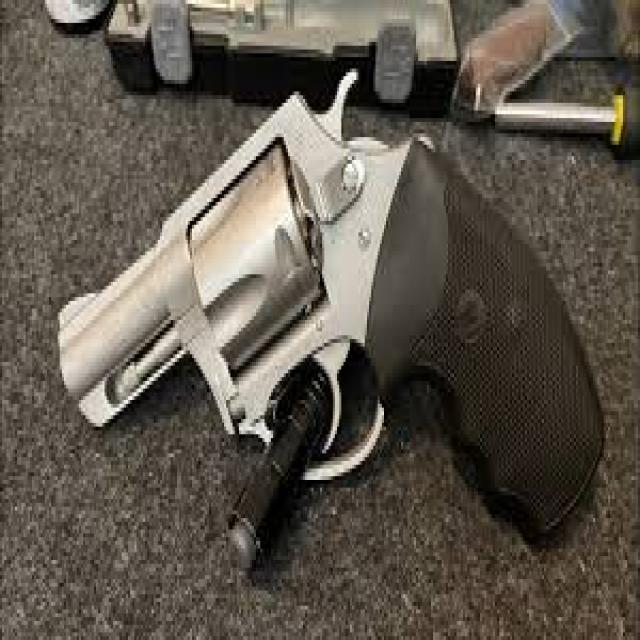Gun: (75, 117, 600, 564)
